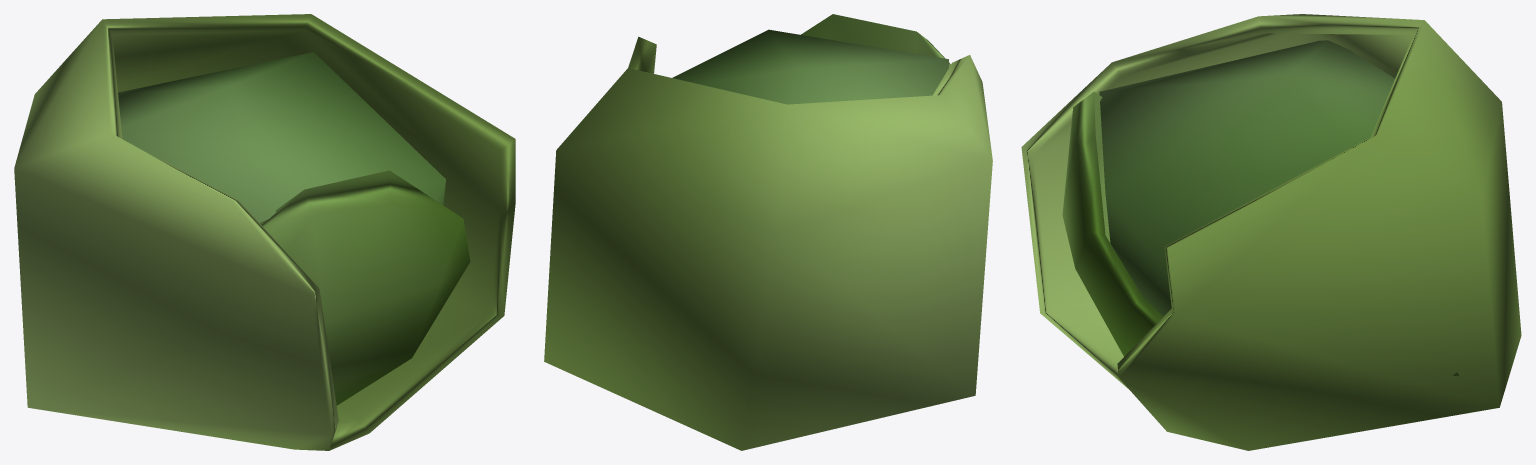
File: Cabbage.gltf
3 renders of one model, left to right at view 1: azimuth 30°, elevation 25°; view 2: azimuth 150°, elevation 25°; view 3: azimuth 270°, elevation 25°, orthographic. The views are drawn at different scales.
Visible parts, largest first — view 1: Cabbage; view 2: Cabbage; view 3: Cabbage.
Boxes of the visible parts, x1,y1,x2,y2 form: Cabbage: (14, 14, 515, 450); Cabbage: (544, 14, 992, 450); Cabbage: (1021, 14, 1521, 450).
Size of the model in its own units: 0.4323 by 0.35 by 0.4348.
1 material, 1 textured.
